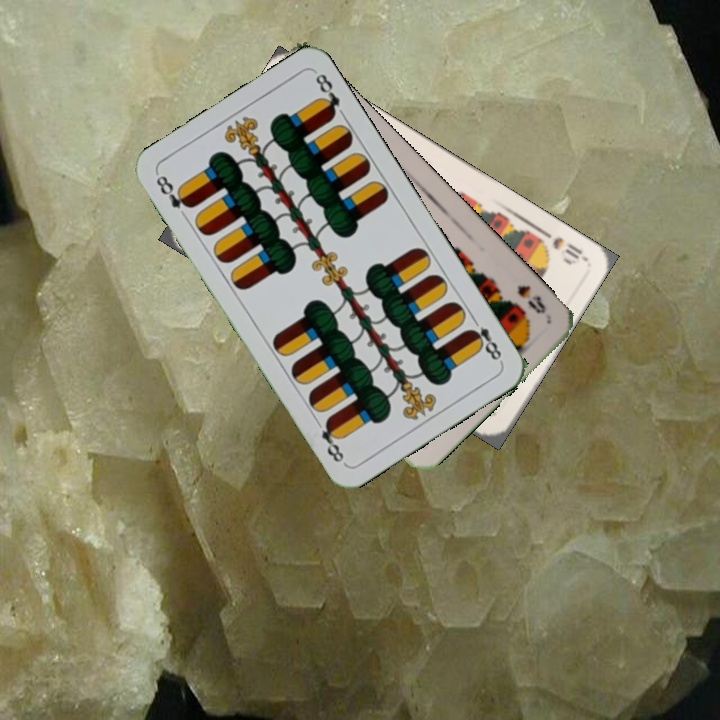E8: (464, 312, 507, 365), (152, 171, 195, 211)
S10: (531, 223, 588, 267)
S8: (513, 281, 549, 317)
